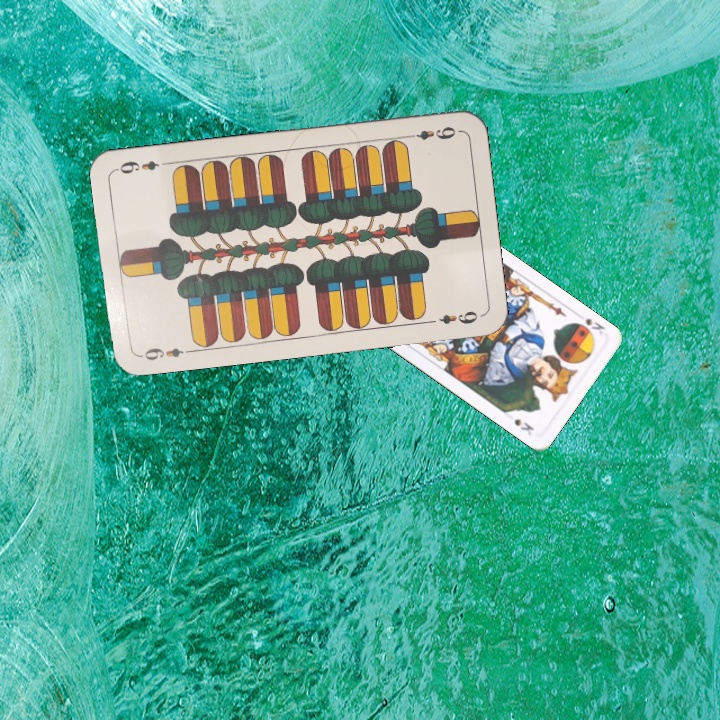E9: (135, 343, 194, 363), (402, 122, 458, 143)
SK: (581, 314, 607, 337)
